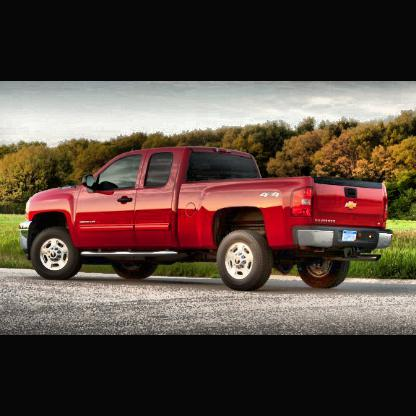Chevrolet Silverado 1500 Extended Cab 2012: (20, 146, 392, 296)
